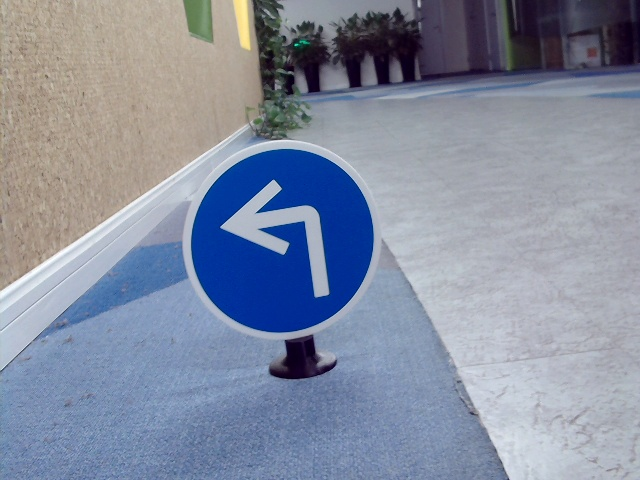turn_left: (222, 177, 336, 305)
